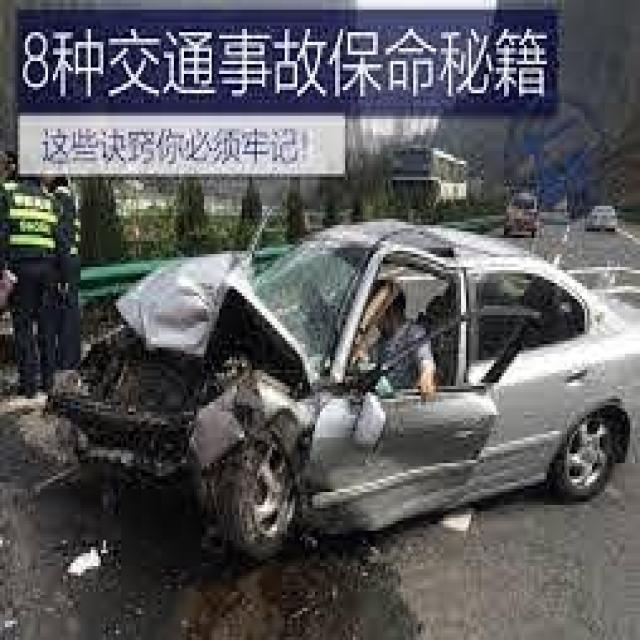accident: (46, 200, 634, 568)
